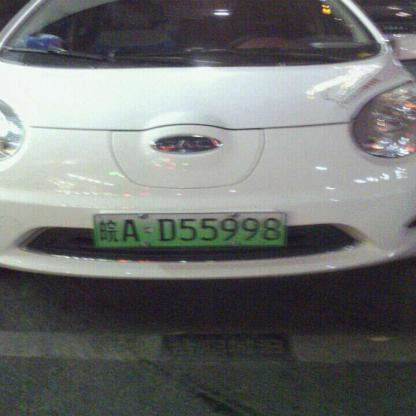lp: (93, 213, 286, 246)
